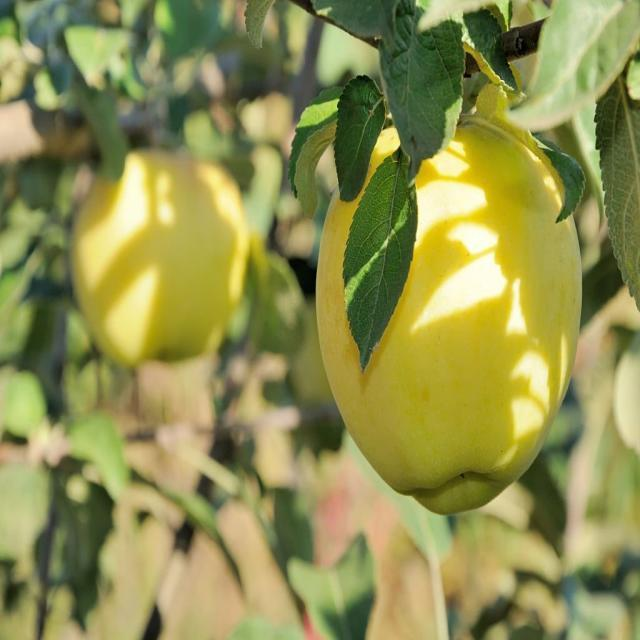Green Apple: (325, 111, 590, 536), (66, 153, 261, 380)
